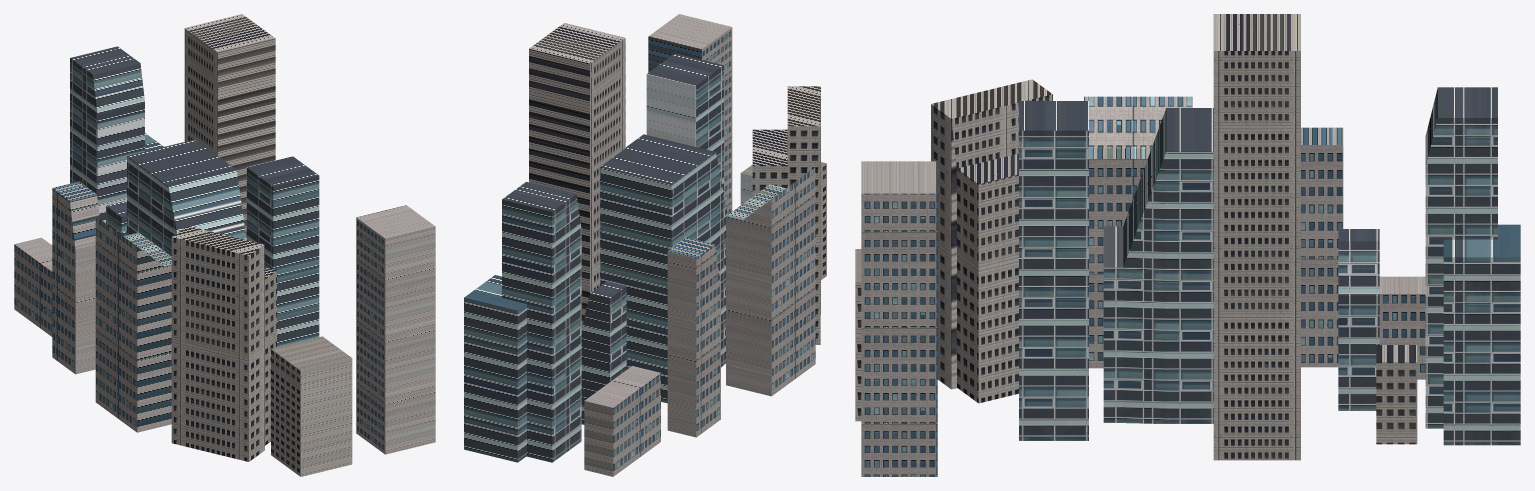
The model's file is CityLandscape.fbx.
3 renders of one model, left to right at view 1: azimuth 30°, elevation 25°; view 2: azimuth 150°, elevation 25°; view 3: azimuth 270°, elevation 25°, orthographic. The views are drawn at different scales.
Parts seen in each view (by area): view 1: Cube; view 2: Cube; view 3: Cube.
Boxes of the visible parts, box(x1,y1,x2,y2) form: Cube: box(14, 14, 435, 476); Cube: box(464, 14, 826, 476); Cube: box(855, 14, 1520, 476).
Bounding box in the file's own units: 1574 × 2204 × 3235.
